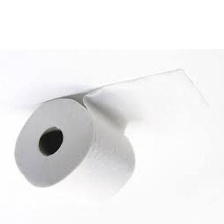tissue: (8, 63, 214, 210)
